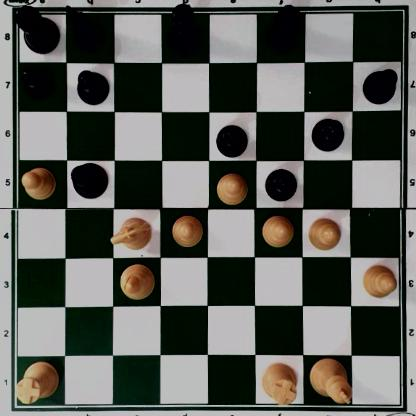black-bishop: (71, 161, 108, 199)
black-king: (166, 3, 204, 61)
black-knight: (65, 6, 106, 51)
black-pawn: (18, 63, 57, 101), (362, 67, 398, 105), (74, 70, 111, 105), (215, 121, 249, 156), (311, 116, 344, 151), (265, 166, 297, 201)
black-rook: (14, 1, 59, 53), (264, 4, 304, 53)
white-bishop: (119, 262, 154, 299)
white-king: (309, 356, 352, 406)
white-knight: (112, 215, 152, 252)
white-pawn: (360, 262, 397, 299), (307, 215, 341, 251), (213, 171, 249, 204), (21, 166, 57, 199), (261, 213, 294, 247), (170, 214, 203, 246)
white-rook: (14, 360, 59, 403), (261, 361, 299, 404)
